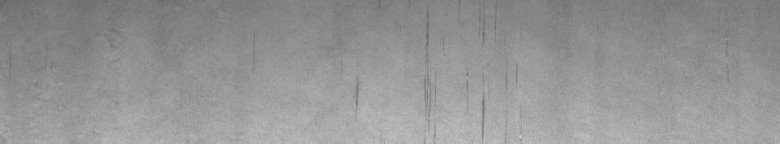ka: (424, 12, 519, 136)
